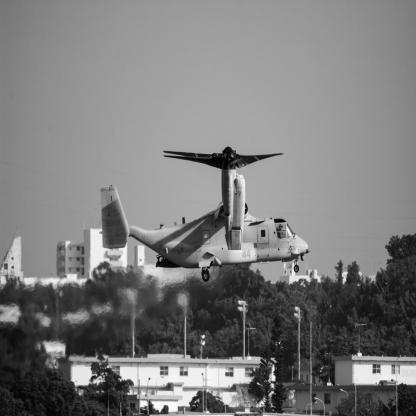V22: (100, 148, 312, 283)
